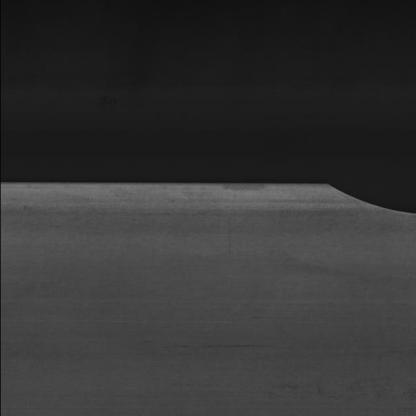crescent_gap: (319, 172, 416, 224)
